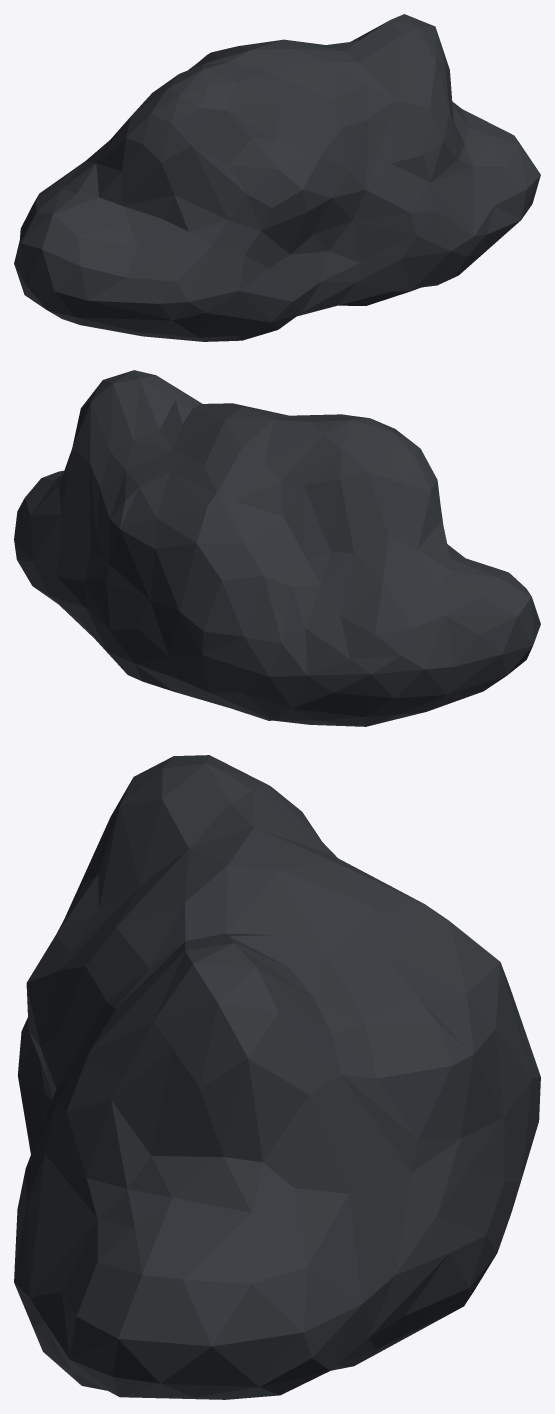
The model's file is Cloud_03.fbx.
3 views of the same model, one above another, from view 1: azimuth 30°, elevation 25°; view 2: azimuth 150°, elevation 25°; view 3: azimuth 270°, elevation 25° (orthographic). The views are drawn at different scales.
Parts seen in each view (by area): view 1: Cloud_03; view 2: Cloud_03; view 3: Cloud_03.
Part boxes in pixels (<box>): Cloud_03: <box>14,14,540,341</box>; Cloud_03: <box>14,370,540,726</box>; Cloud_03: <box>14,755,540,1399</box>.
Bounding box in the file's own units: 4.33 × 2.1 × 2.2.
